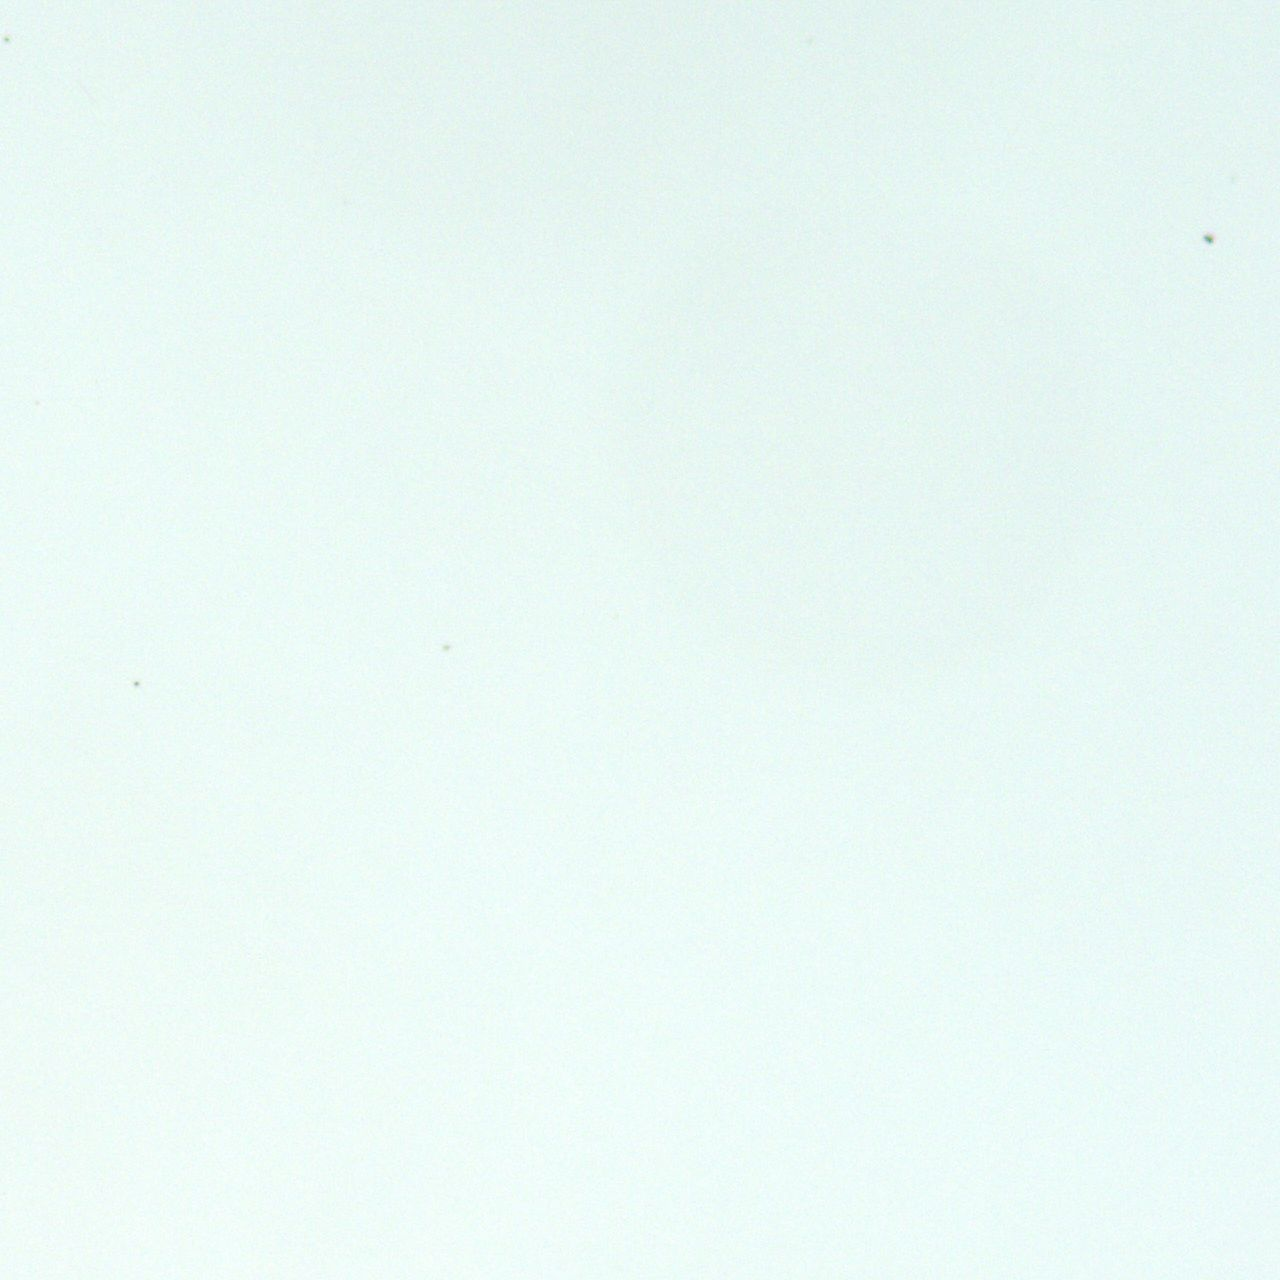dust: (1203, 233, 1213, 241), (132, 680, 139, 686), (443, 644, 450, 649), (4, 36, 11, 41)
